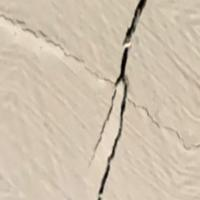crack: (79, 0, 153, 199)
